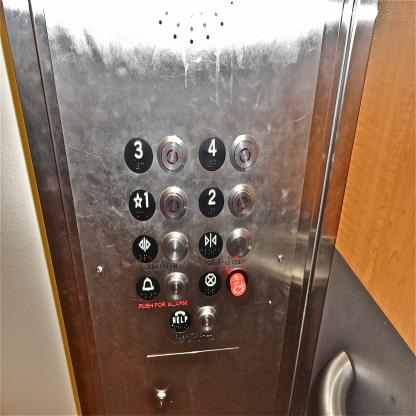2: (198, 184, 224, 218)
3: (124, 136, 154, 173)
4: (197, 135, 226, 172)
alarm: (135, 274, 161, 301)
call: (168, 309, 192, 333)
close: (198, 230, 224, 258)
empty: (156, 135, 187, 174), (229, 134, 260, 173), (158, 183, 189, 221), (226, 182, 256, 218), (161, 230, 190, 264), (164, 270, 190, 304), (226, 228, 253, 258), (194, 305, 221, 333)
keyhole: (154, 391, 168, 407)
open: (132, 233, 159, 264)
s1: (128, 187, 156, 222)
stop: (198, 271, 222, 295)
text_stop: (227, 268, 250, 298)
